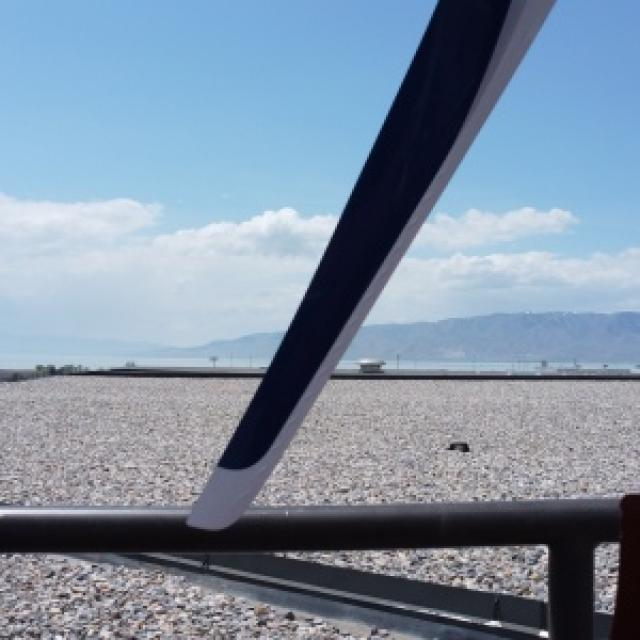healthy: (183, 0, 550, 529), (363, 0, 638, 358)
